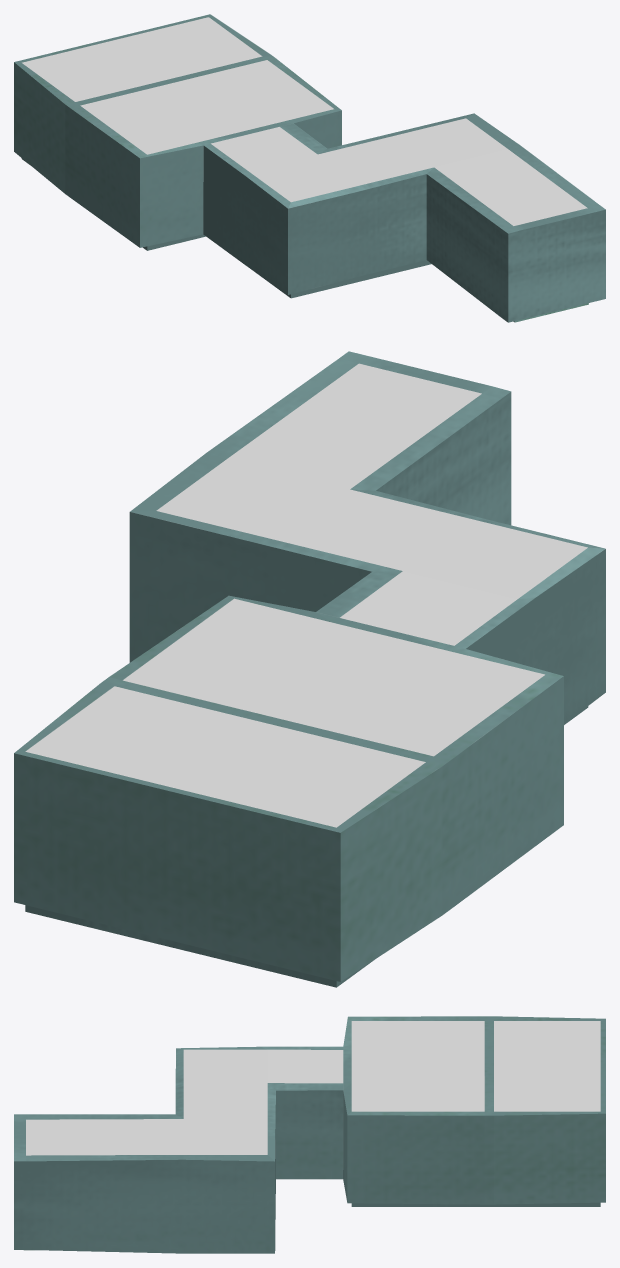
Rendered from banka 114.fbx.
3 renders of one model, top to bottom at view 1: azimuth 30°, elevation 25°; view 2: azimuth 150°, elevation 25°; view 3: azimuth 270°, elevation 25°, orthographic. The views are drawn at different scales.
Visible parts, largest first — view 1: BA_banka, BA_strop; view 2: BA_banka, BA_strop; view 3: BA_banka, BA_strop.
Boxes of the visible parts, x1,y1,x2,y2 form: BA_banka: (14,14,605,322); BA_strop: (22,17,587,225); BA_banka: (14,351,605,987); BA_strop: (25,363,587,827); BA_banka: (14,1016,605,1253); BA_strop: (26,1021,600,1155).
Bounding box in the file's own units: 1340 × 417 × 2320.
